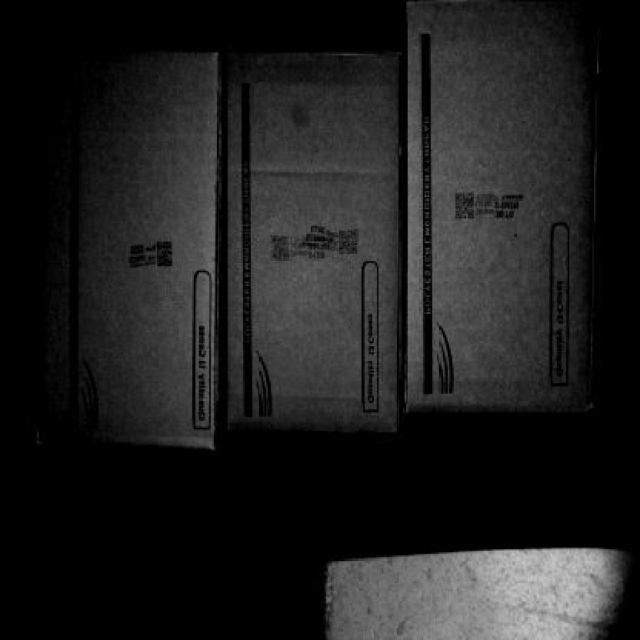cardboxes: (404, 3, 598, 409), (32, 48, 213, 448), (221, 48, 397, 430)
